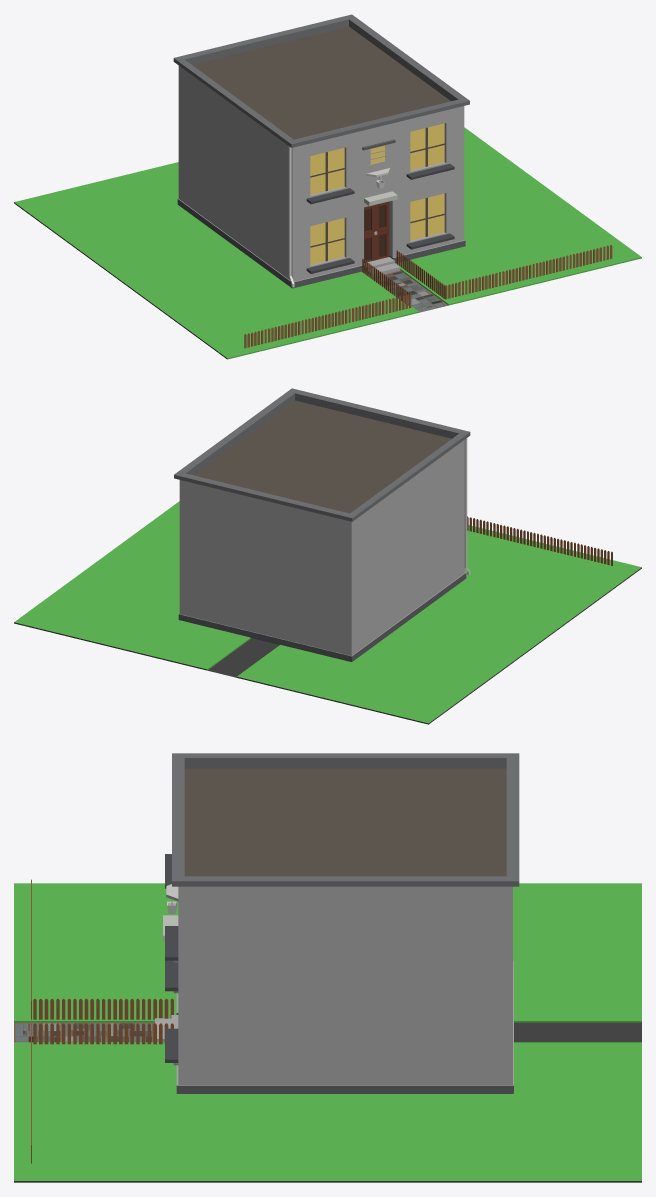
The model's file is Distribusi.glb.
The picture shows the model from 3 angles, top to bottom: view 1: azimuth 30°, elevation 25°; view 2: azimuth 150°, elevation 25°; view 3: azimuth 270°, elevation 25°; orthographic projection. The views are drawn at different scales.
Parts seen in each view (by area): view 1: Object_3, Object_5, Object_4; view 2: Object_3, Object_8, Object_5; view 3: Object_3, Object_5, Object_8, Object_4.
Part boxes in pixels (x1,y1,x2,y2): Object_3: [14, 14, 641, 359]; Object_5: [244, 245, 612, 348]; Object_4: [375, 271, 446, 311]; Object_3: [14, 388, 641, 723]; Object_8: [14, 567, 641, 724]; Object_5: [467, 516, 612, 565]; Object_3: [14, 753, 641, 1180]; Object_5: [31, 879, 173, 1163]; Object_8: [14, 1022, 641, 1182]; Object_4: [15, 1023, 152, 1042].
Size of the model in its own units: 19.72 by 6.74 by 17.58.
2 materials, 2 textured.
